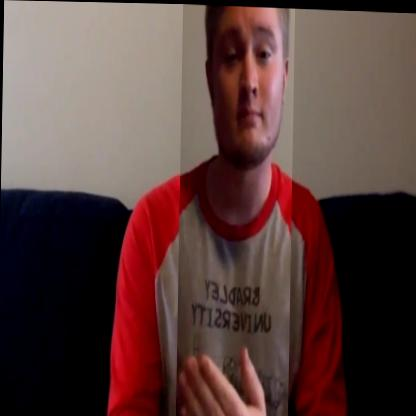ThankYou: (175, 3, 294, 416)
